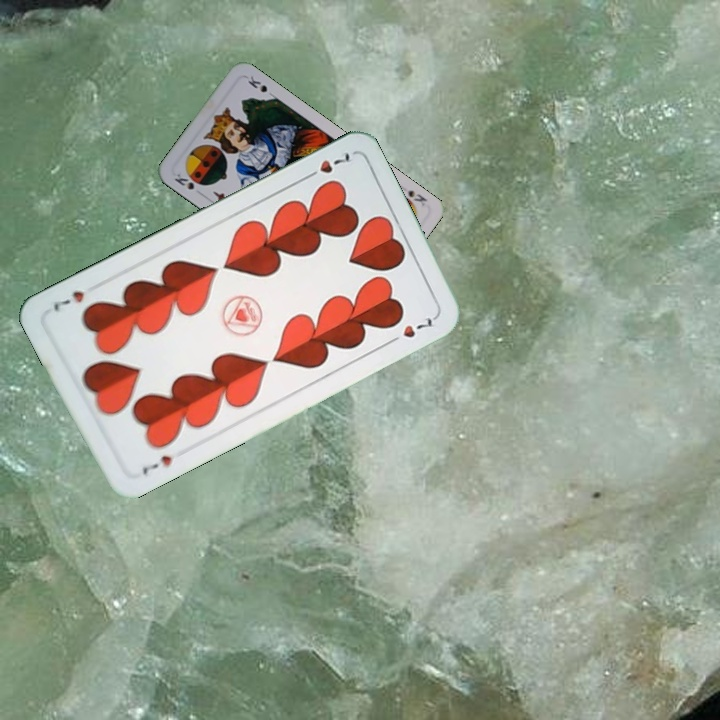H7: (300, 148, 355, 182), (138, 451, 175, 478)
SK: (170, 168, 206, 198), (404, 186, 430, 209)
